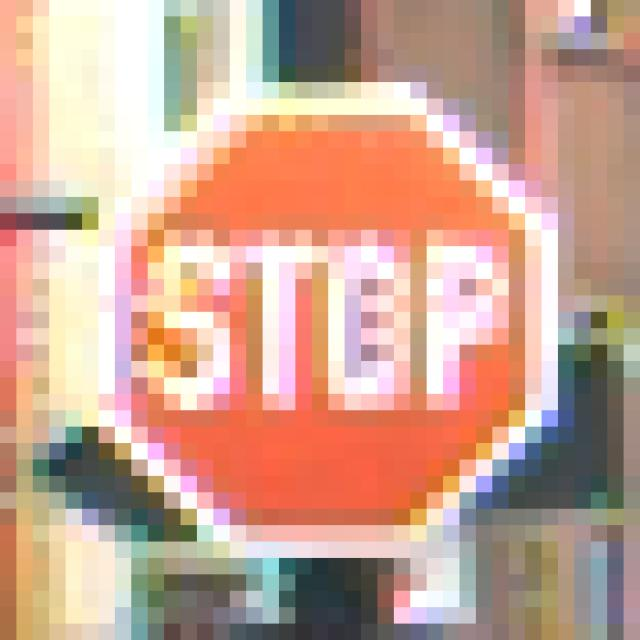STOP: (83, 83, 559, 559)
